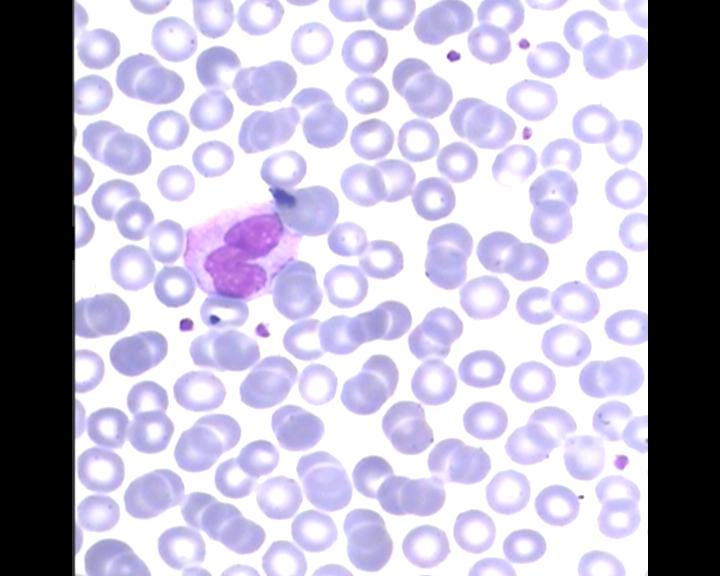mono: (177, 192, 307, 303)
